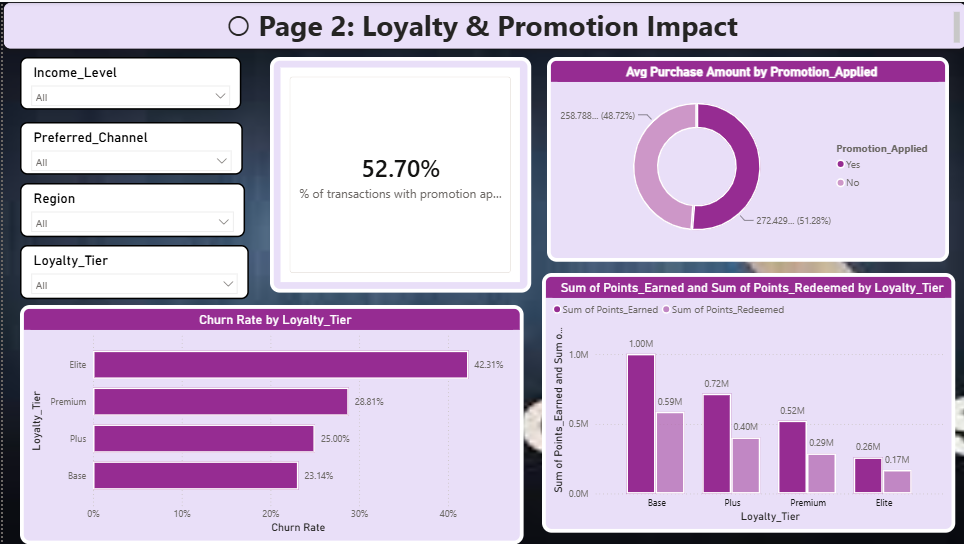

What the dashboard file says about the page in this screenshot:
{"tool":"powerbi","page":{"name":"Task-7(2)","canvas":[1280,720],"ordinal":10},"visuals":[{"type":"cardVisual","fields":{"Data":["Measure.% of transactions with promotion applied"]},"box":[354.1,73.2,346.8,313.2],"z":0},{"type":"donutChart","fields":{"Category":["Customer_Transactions.Promotion_Applied"],"Y":["Measure.Avg Purchase Amount"]},"box":[722.9,73.2,534.1,272.2],"z":1000},{"type":"clusteredBarChart","fields":{"Category":["Loyalty_Program.Loyalty_Tier"],"Y":["Measure.Churn Rate"]},"box":[22,402.4,668.8,317.6],"z":2000},{"type":"clusteredColumnChart","fields":{"Category":["Loyalty_Program.Loyalty_Tier"],"Y":["Sum(Loyalty_Program.Points_Earned)","Sum(Loyalty_Program.Points_Redeemed)"]},"box":[715.6,360,548.8,345.4],"z":3000},{"type":"textbox","box":[0,0,1280.5,62.9],"z":4000},{"type":"slicer","fields":{"Values":["Customer_Demographics.Income_Level"]},"box":[22,73.2,294.1,70.2],"z":5000},{"type":"slicer","fields":{"Values":["Customer_Demographics.Preferred_Channel"]},"box":[22,159.5,295.6,70.2],"z":6000},{"type":"slicer","fields":{"Values":["Customer_Demographics.Region"]},"box":[22,240,298.5,71.7],"z":7000},{"type":"slicer","fields":{"Values":["Loyalty_Program.Loyalty_Tier"]},"box":[22,323.4,304.4,71.7],"z":8000}]}

Visuals, with their boxes in screenshot pixels (x1, y1, x2, y2), scaled from the page's 1280x720 canvas onto the 964x544 screenshot:
cardVisual - Measure.% of transactions with promotion applied: crop(267, 55, 528, 292)
donutChart - Customer_Transactions.Promotion_Applied x Measure.Avg Purchase Amount: crop(544, 55, 947, 261)
clusteredBarChart - Loyalty_Program.Loyalty_Tier x Measure.Churn Rate: crop(17, 304, 520, 543)
clusteredColumnChart - Loyalty_Program.Loyalty_Tier x Sum(Loyalty_Program.Points_Earned): crop(539, 272, 952, 533)
textbox: crop(0, 0, 963, 48)
slicer - Customer_Demographics.Income_Level: crop(17, 55, 238, 108)
slicer - Customer_Demographics.Preferred_Channel: crop(17, 121, 239, 174)
slicer - Customer_Demographics.Region: crop(17, 181, 241, 236)
slicer - Loyalty_Program.Loyalty_Tier: crop(17, 244, 246, 299)
